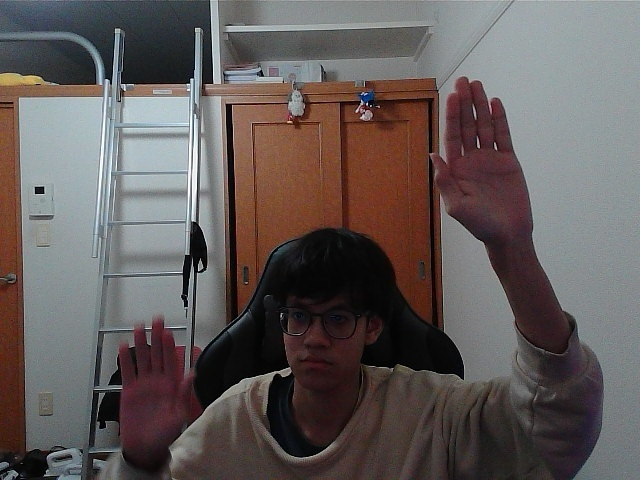open_palm: (437, 85, 510, 233)
